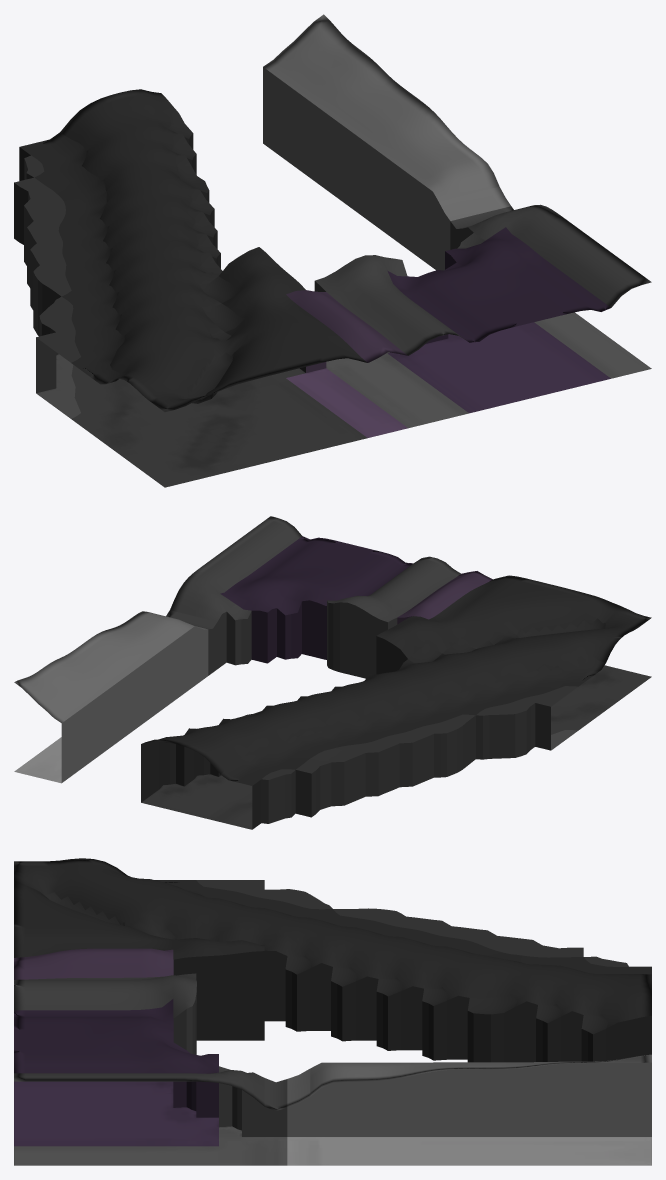
Rendered from delbld-hull-569.glb.
3 views of the same model, one above another, from view 1: azimuth 30°, elevation 25°; view 2: azimuth 150°, elevation 25°; view 3: azimuth 270°, elevation 25° (orthographic). The views are drawn at different scales.
Parts seen in each view (by area): view 1: delbld-hull-569; view 2: delbld-hull-569; view 3: delbld-hull-569.
Boxes of the visible parts, x1,y1,x2,y2 form: delbld-hull-569: (14, 14, 651, 487); delbld-hull-569: (14, 516, 651, 829); delbld-hull-569: (14, 858, 651, 1165).
Bounding box in the file's own units: 2 × 0.4488 × 2.33.
Materials: 6 (6 with a texture image).
